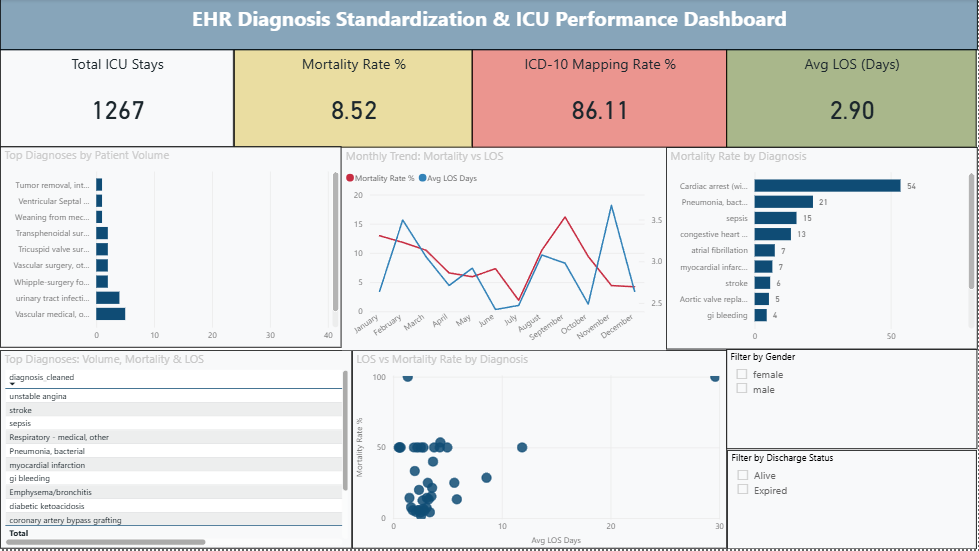

This screenshot's page, from the dashboard's own definition file:
{"tool":"powerbi","page":{"name":"EHR Dashboard","canvas":[1280,720],"ordinal":0},"visuals":[{"type":"card","fields":{"Values":["CountNonNull(cleaned_ehr_data.patientunitstayid)"]},"box":[0,65,306,128.6],"z":0},{"type":"card","fields":{"Values":["cleaned_ehr_data.Mortality Rate %"]},"box":[306,65,311.9,128.6],"z":1000},{"type":"card","fields":{"Values":["cleaned_ehr_data.ICD10 Mapping Rate %"]},"box":[617.8,65,334,128.6],"z":2000},{"type":"card","fields":{"Values":["cleaned_ehr_data.Avg LOS Days"]},"box":[950.4,65,328.1,128.6],"z":3000},{"type":"textbox","box":[0,0,1280,66.5],"z":4000},{"type":"clusteredBarChart","title":"Top Diagnoses by Patient Volume","fields":{"Y":["CountNonNull(cleaned_ehr_data.patientunitstayid)"],"Category":["cleaned_ehr_data.diagnosis_cleaned"]},"box":[0,192.7,447.3,264.3],"z":5000},{"type":"clusteredBarChart","title":"Mortality Rate by Diagnosis","fields":{"Y":["cleaned_ehr_data.Mortality Rate %"],"Category":["cleaned_ehr_data.diagnosis_cleaned"]},"box":[872.1,193.6,407.9,264.6],"z":6000},{"type":"slicer","title":"Filter by Gender","fields":{"Values":["cleaned_ehr_data.gender"]},"box":[951.1,458.3,328.9,130.8],"z":7000},{"type":"slicer","title":"Filter by Discharge Status","fields":{"Values":["cleaned_ehr_data.hospitaldischargestatus"]},"box":[951.9,589.7,326.7,130.1],"z":8000},{"type":"tableEx","title":"Top Diagnoses: Volume, Mortality & LOS","fields":{"Values":["cleaned_ehr_data.diagnosis_cleaned","CountNonNull(cleaned_ehr_data.patientunitstayid)","cleaned_ehr_data.Mortality Rate %","cleaned_ehr_data.Avg LOS Days"]},"box":[0,459.7,461.2,260.1],"z":9000},{"type":"scatterChart","title":"LOS vs Mortality Rate by Diagnosis","fields":{"X":["cleaned_ehr_data.Avg LOS Days"],"Category":["cleaned_ehr_data.diagnosis_cleaned"],"Y":["cleaned_ehr_data.Mortality Rate %"]},"box":[461.2,459.7,490.7,260.1],"z":10000},{"type":"lineChart","title":"Monthly Trend: Mortality vs LOS","fields":{"Y":["cleaned_ehr_data.Mortality Rate %"],"Y2":["cleaned_ehr_data.Avg LOS Days"],"Category":["cleaned_ehr_data.admit_date.Variation.Date Hierarchy.Month"]},"box":[447.9,195.1,424.2,264.6],"z":11000}]}

Visuals, with their boxes in screenshot pixels (x1, y1, x2, y2), scaled from the page's 1280x720 canvas onto the 979x551 screenshot:
card - CountNonNull(cleaned_ehr_data.patientunitstayid): BBox(0, 50, 234, 148)
card - cleaned_ehr_data.Mortality Rate %: BBox(234, 50, 473, 148)
card - cleaned_ehr_data.ICD10 Mapping Rate %: BBox(473, 50, 728, 148)
card - cleaned_ehr_data.Avg LOS Days: BBox(727, 50, 978, 148)
textbox: BBox(0, 0, 978, 51)
"Top Diagnoses by Patient Volume" clusteredBarChart: BBox(0, 147, 342, 350)
"Mortality Rate by Diagnosis" clusteredBarChart: BBox(667, 148, 978, 351)
"Filter by Gender" slicer: BBox(727, 351, 978, 451)
"Filter by Discharge Status" slicer: BBox(728, 451, 978, 550)
"Top Diagnoses: Volume, Mortality & LOS" tableEx: BBox(0, 352, 353, 550)
"LOS vs Mortality Rate by Diagnosis" scatterChart: BBox(353, 352, 728, 550)
"Monthly Trend: Mortality vs LOS" lineChart: BBox(343, 149, 667, 352)
